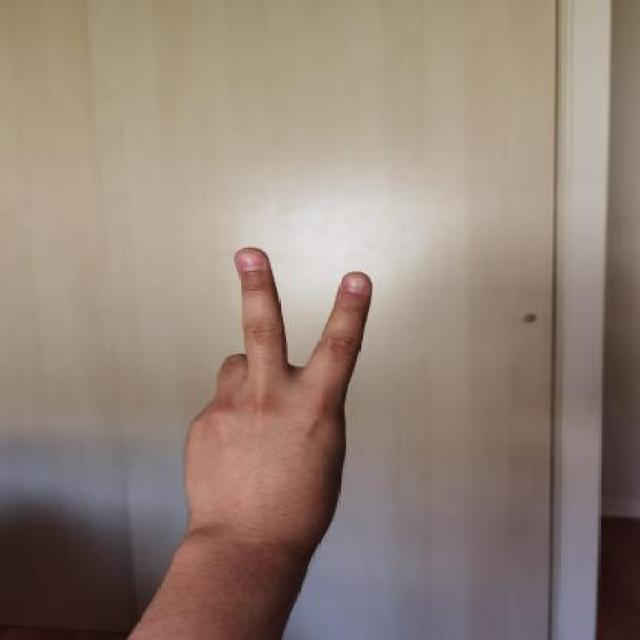V: (177, 242, 395, 544)
